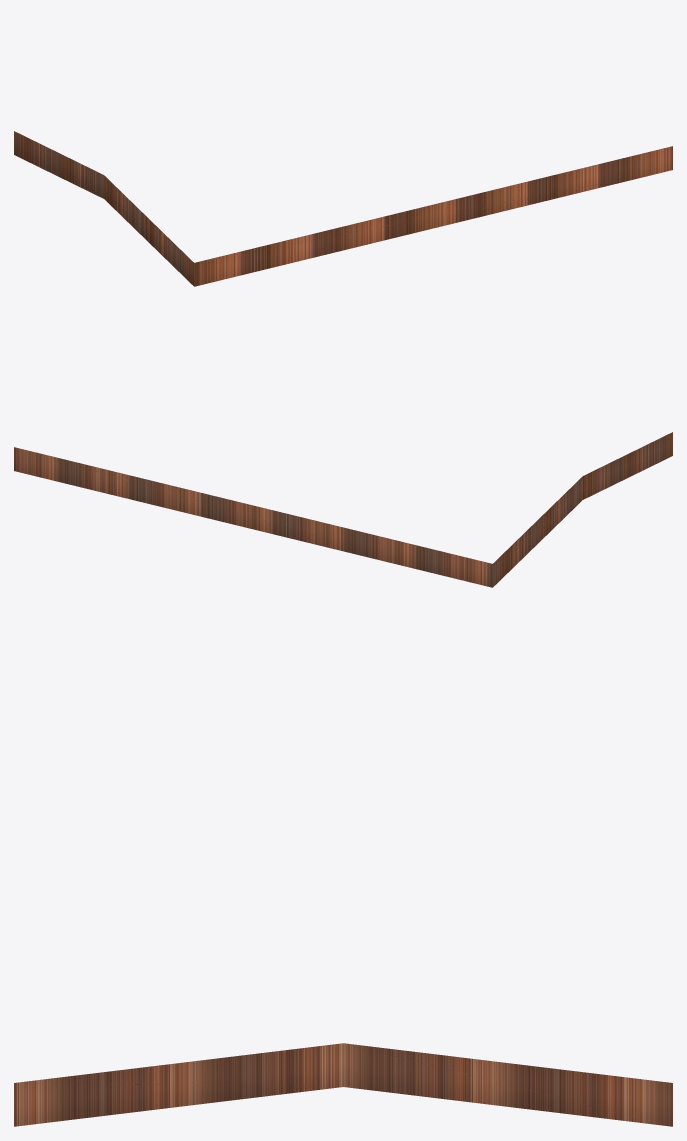
Rendered from ceiling.glb.
3 renders of one model, top to bottom at view 1: azimuth 30°, elevation 25°; view 2: azimuth 150°, elevation 25°; view 3: azimuth 270°, elevation 25°, orthographic. The views are drawn at different scales.
Visible parts, largest first — view 1: ceiling; view 2: ceiling; view 3: ceiling.
Part boxes in pixels (x1=…): ceiling: x1=14, y1=131, x2=672, y2=286; ceiling: x1=14, y1=432, x2=672, y2=587; ceiling: x1=14, y1=1043, x2=672, y2=1126.
Bounding box in the file's own units: 460 × 42 × 300.
1 material, 1 textured.
